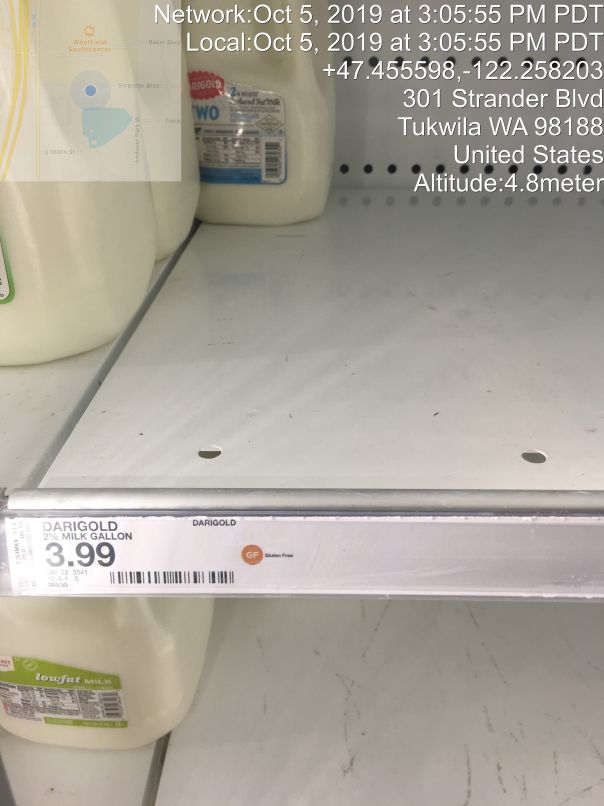Label: (205, 199, 569, 471), (5, 515, 260, 603)
Location: (386, 86, 604, 169)
Time: (147, 2, 604, 54)
